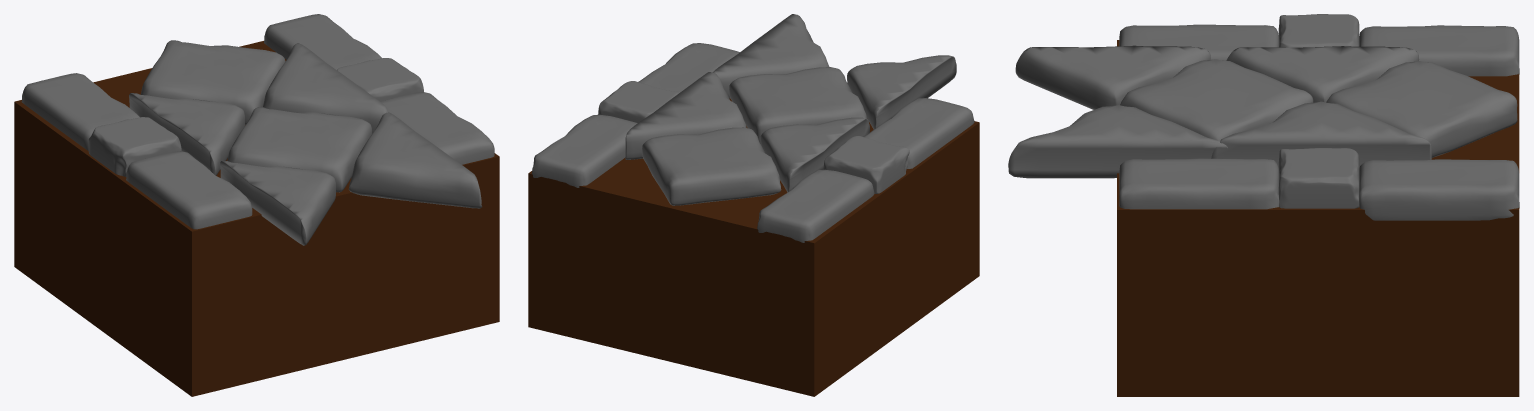
The model's file is fixed.fbx.
The picture shows the model from 3 angles, left to right: view 1: azimuth 30°, elevation 25°; view 2: azimuth 150°, elevation 25°; view 3: azimuth 270°, elevation 25°; orthographic projection. The views are drawn at different scales.
Parts seen in each view (by area): view 1: ground.001, block2, block2.003, block2.001, block1.016, block2.006, block2.007, block2.005, block1.015, block1.011, block1.009, block3_002.003 (+1 smaller); view 2: ground.001, block2.001, block2.003, block1.015, block2.006, block1.009, block2.007, block2.005, block2, block1.016, block3_002.003, block1.011 (+1 smaller); view 3: ground.001, block2.001, block2, block1.009, block2.003, block1.011, block2.006, block2.007, block2.005, block1.015, block3_002.001, block1.016 (+1 smaller).
Boxes of the visible parts, box(x1,y1,x2,y2) form: ground.001: box(14, 41, 499, 396); block2: box(348, 112, 482, 208); block2.003: box(227, 107, 372, 192); block2.001: box(141, 40, 285, 125); block1.016: box(126, 151, 252, 229); block2.006: box(220, 160, 335, 245); block2.007: box(263, 43, 388, 133); block2.005: box(129, 93, 244, 175); block1.015: box(21, 73, 139, 150); block1.011: box(380, 92, 494, 164); block1.009: box(264, 14, 382, 69); block3_002.003: box(88, 117, 181, 176); ground.001: box(528, 98, 979, 396); block2.001: box(642, 127, 781, 205); block2.003: box(729, 67, 866, 143); block1.015: box(757, 169, 874, 242); block2.006: box(847, 55, 956, 129); block1.009: box(531, 114, 637, 187); block2.007: box(625, 72, 746, 159); block2.005: box(760, 117, 869, 192); block2: box(713, 14, 829, 98); block1.016: box(864, 98, 974, 168); block3_002.003: box(823, 136, 909, 193); block1.011: box(638, 43, 739, 92); ground.001: box(1117, 40, 1519, 396); block2.001: box(1326, 61, 1517, 157); block2: box(1008, 105, 1227, 178); block1.009: box(1359, 159, 1519, 220); block2.003: box(1120, 59, 1313, 140); block1.011: box(1119, 158, 1279, 209); block2.006: box(1015, 45, 1210, 109); block2.007: box(1211, 101, 1431, 169); block2.005: box(1226, 46, 1419, 102); block1.015: box(1359, 25, 1519, 76); block3_002.001: box(1278, 148, 1359, 208); block1.016: box(1119, 24, 1278, 60).
Bounding box in the file's own units: 200 × 122 × 254.
